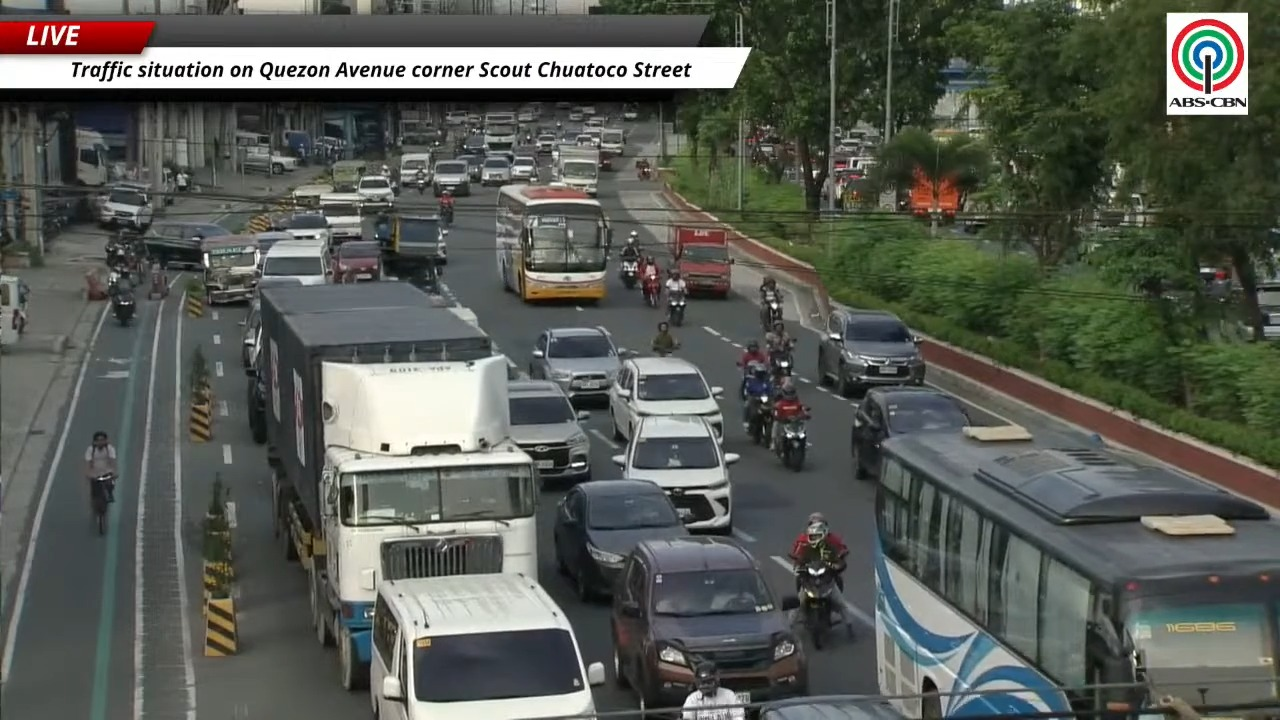bus: (874, 426, 1279, 719), (497, 184, 610, 302)
car: (610, 535, 808, 706), (553, 479, 688, 601), (611, 416, 739, 534), (851, 386, 971, 478), (817, 308, 926, 397), (609, 357, 723, 440), (508, 380, 590, 487), (528, 327, 627, 401), (142, 220, 231, 270), (759, 696, 902, 719), (98, 183, 154, 231), (331, 240, 380, 282), (281, 211, 331, 244), (246, 368, 267, 444), (254, 230, 298, 265), (433, 159, 471, 196), (356, 175, 395, 207), (242, 299, 260, 367), (481, 157, 511, 186), (455, 154, 484, 182), (510, 156, 537, 181), (463, 134, 486, 155), (536, 133, 556, 153), (446, 110, 467, 125), (517, 109, 535, 123), (622, 106, 638, 120), (465, 111, 482, 124), (568, 109, 583, 121), (555, 101, 571, 109)
motorcycle: (796, 560, 836, 648), (775, 419, 806, 471), (90, 472, 114, 534), (747, 394, 772, 446), (106, 241, 131, 275), (111, 292, 135, 326), (762, 292, 782, 330), (667, 293, 687, 327), (770, 348, 793, 376), (641, 276, 661, 308), (619, 259, 637, 289), (651, 342, 679, 357), (439, 204, 453, 224), (415, 172, 426, 194), (637, 166, 651, 180)
truck: (258, 282, 537, 689), (277, 281, 482, 332), (669, 225, 732, 297), (908, 169, 960, 218), (553, 144, 599, 196), (599, 128, 625, 169)
